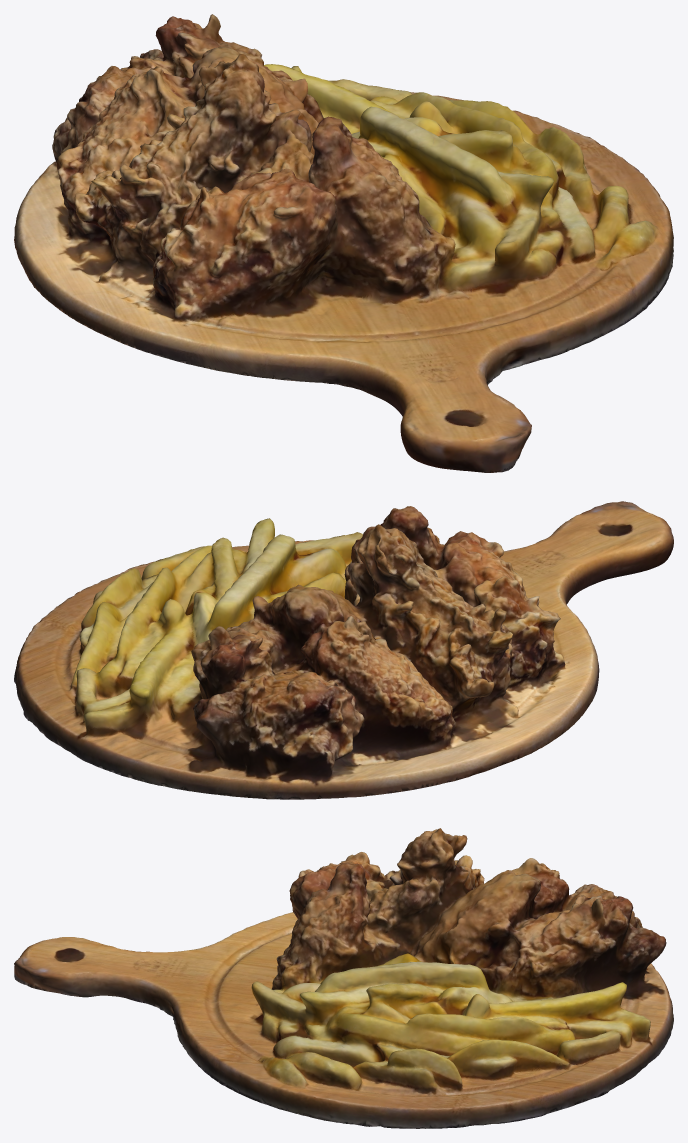
File: bal.sokhari.glb
The picture shows the model from 3 angles, top to bottom: view 1: azimuth 30°, elevation 25°; view 2: azimuth 150°, elevation 25°; view 3: azimuth 270°, elevation 25°; orthographic projection. The views are drawn at different scales.
Visible parts, largest first — view 1: 3DModel; view 2: 3DModel; view 3: 3DModel.
Part boxes in pixels (x1,y1,x2,y2): 3DModel: (14,14,673,472); 3DModel: (14,501,673,799); 3DModel: (14,828,673,1128).
Bounding box in the file's own units: 0.3151 × 0.1126 × 0.4172.
Materials: 1 (1 with a texture image).
